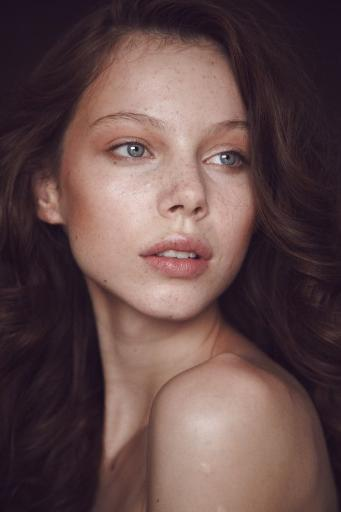left_eye: (204, 151, 246, 174)
left_lip_corner: (208, 251, 218, 267)
right_eye: (103, 139, 157, 168)
right_lip_corner: (137, 246, 151, 267)
